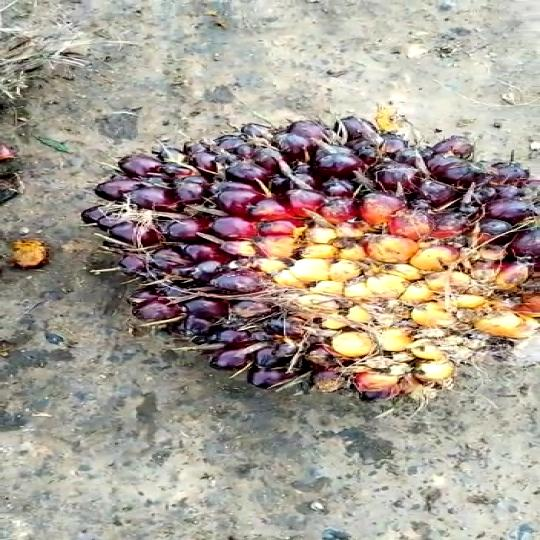mentah: (74, 112, 540, 419)
